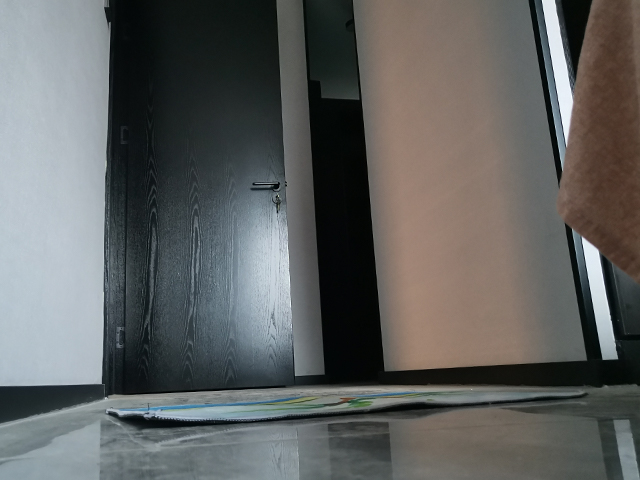carpet: (104, 387, 593, 427)
